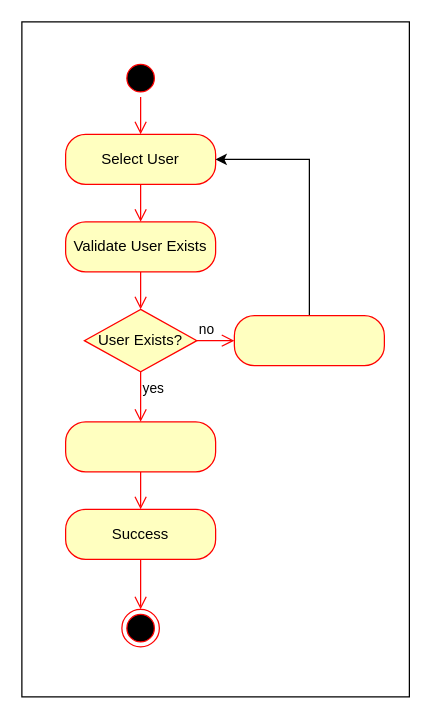
Some shapes in this 431 by 719 pixel diagram are drawn without their labels. The box of each missing label's shape, as (x1, y1, x2, y2) in pixels:
Assign Role = Manager: (64, 421, 216, 472)
Show Error: (233, 314, 384, 366)
